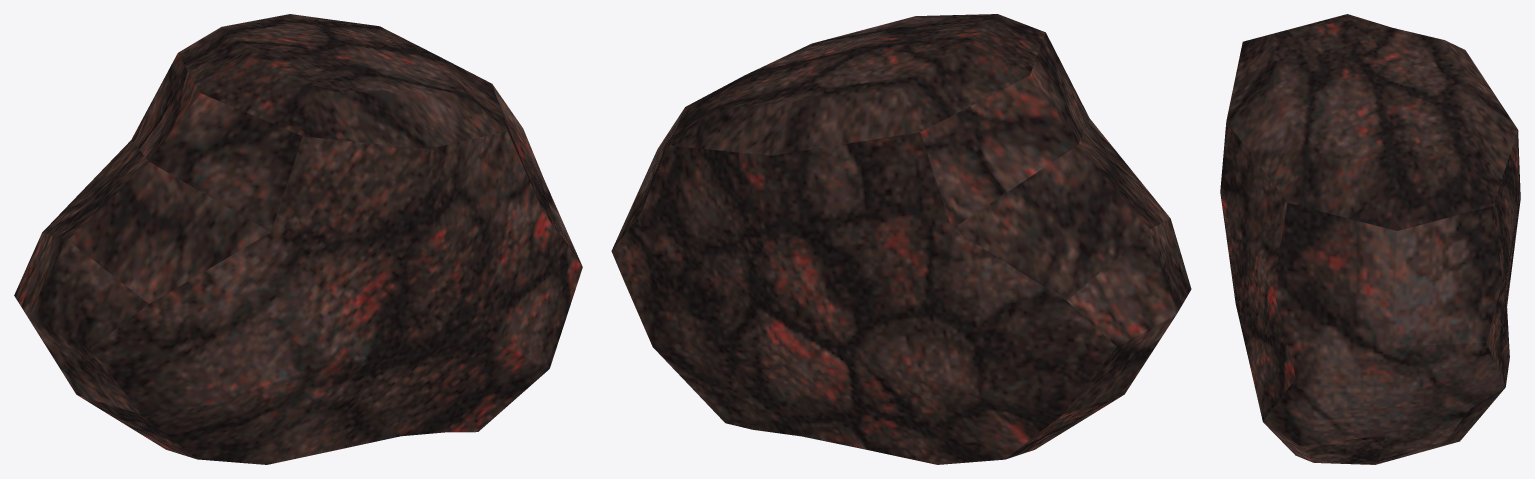
Rendered from hell_rock_1.glb.
3 renders of one model, left to right at view 1: azimuth 30°, elevation 25°; view 2: azimuth 150°, elevation 25°; view 3: azimuth 270°, elevation 25°, orthographic. The views are drawn at different scales.
Parts seen in each view (by area): view 1: Cube; view 2: Cube; view 3: Cube.
Part boxes in pixels (<box>): Cube: <box>14,14,582,464</box>; Cube: <box>611,14,1191,464</box>; Cube: <box>1220,14,1520,464</box>.
Size of the model in its own units: 4.56 by 3.47 by 2.53.
Materials: 1 (1 with a texture image).
